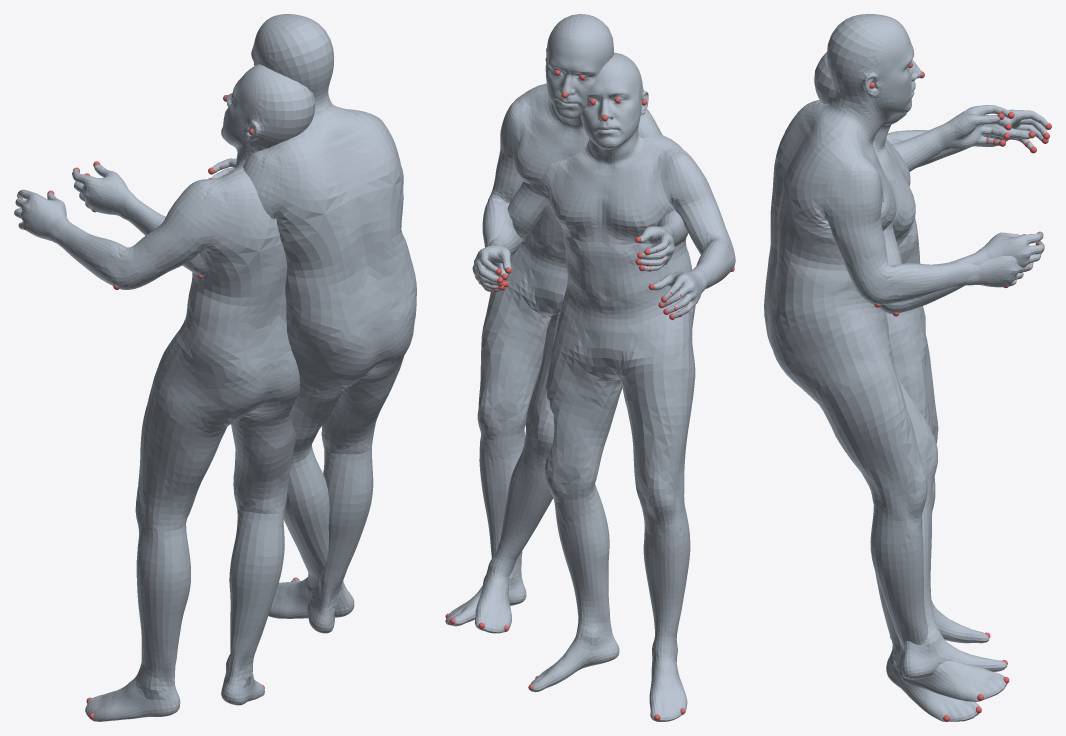
The model's file is human-fold-mesh.glb.
3 renders of one model, left to right at view 1: azimuth 30°, elevation 25°; view 2: azimuth 150°, elevation 25°; view 3: azimuth 270°, elevation 25°, orthographic. The views are drawn at different scales.
Parts seen in each view (by area): view 1: person_00, person_01; view 2: person_00, person_01; view 3: person_01, person_00.
Part boxes in pixels (x1,y1,x2,y2): person_00: [14, 64, 315, 721]; person_01: [72, 14, 416, 633]; person_00: [474, 52, 735, 721]; person_01: [445, 14, 688, 633]; person_01: [764, 14, 1029, 701]; person_00: [814, 52, 1048, 721].
Size of the model in its own units: 0.7862 by 1.76 by 0.6563.
